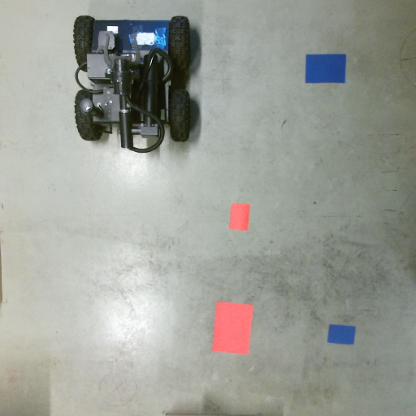Blue: (304, 56, 347, 84), (327, 323, 358, 345)
Jaguar: (71, 14, 194, 155)
Red: (211, 302, 252, 355), (228, 202, 251, 231)
